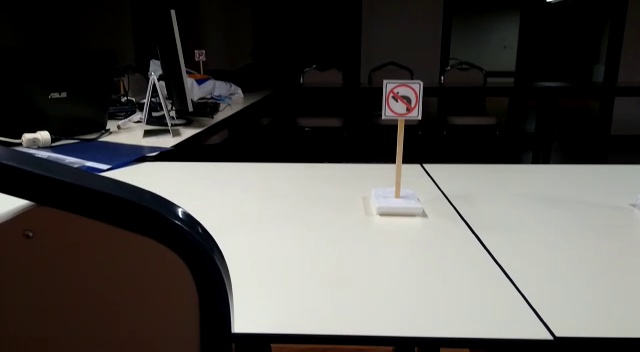sola_donulmez: (380, 75, 428, 123)
